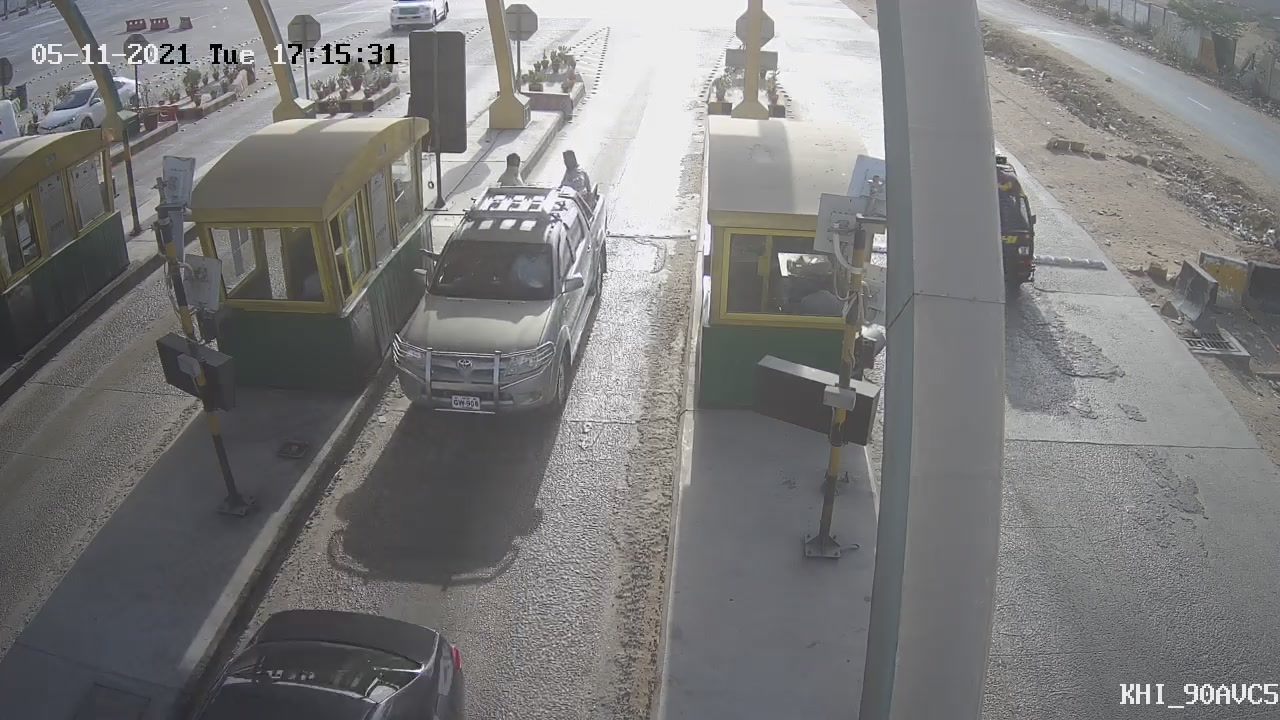F1: (361, 146, 633, 440)
